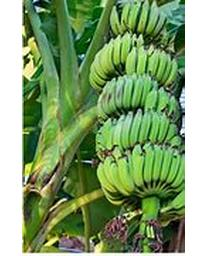banana: (89, 2, 185, 210)
